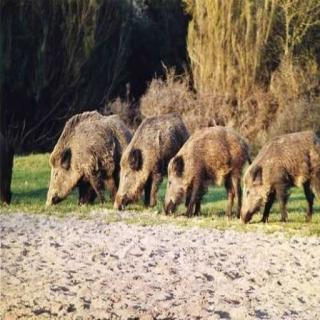Pig: (105, 80, 183, 238), (162, 108, 252, 242), (34, 108, 124, 228), (237, 128, 320, 242)
